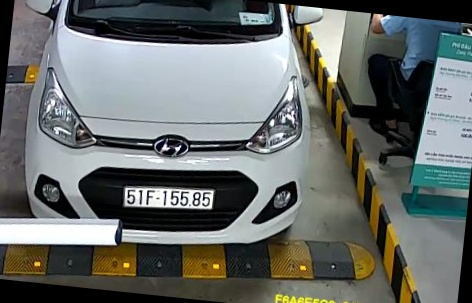plate: (119, 173, 228, 221)
